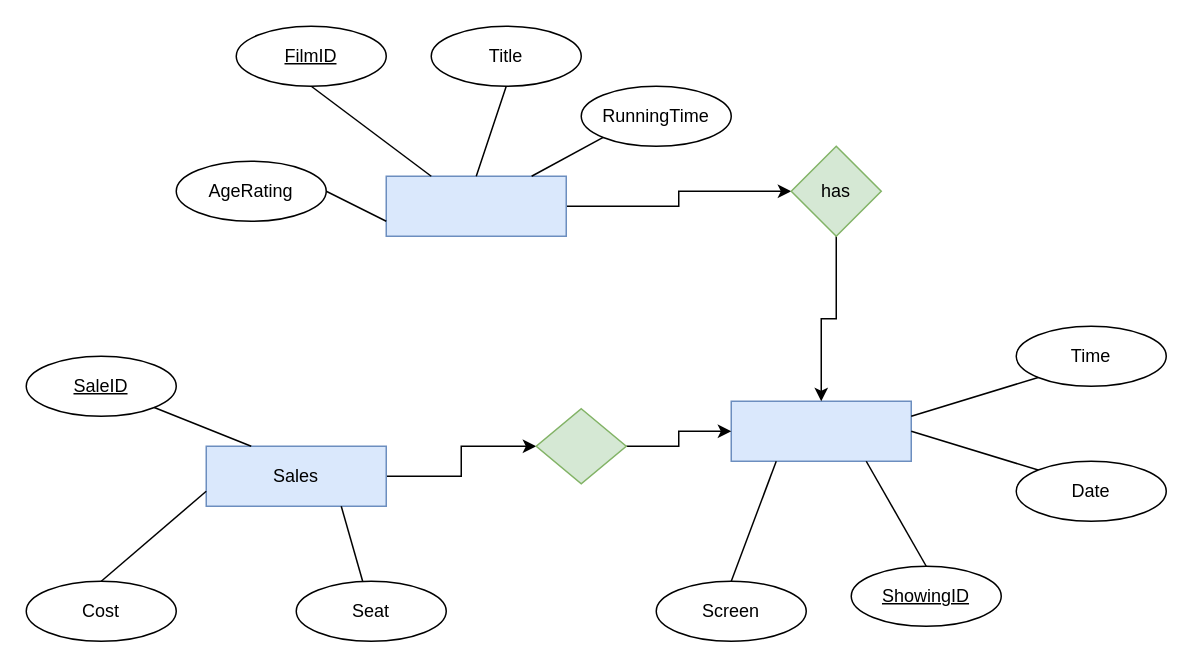
Image size: 1193x668. Some labels were removed from this diagram. The shapes that lost their labels are listed below. From the top down, each one's centre as x and y in pixels, then its label:
point (475, 205): Film
point (580, 445): for
point (820, 430): Showings
